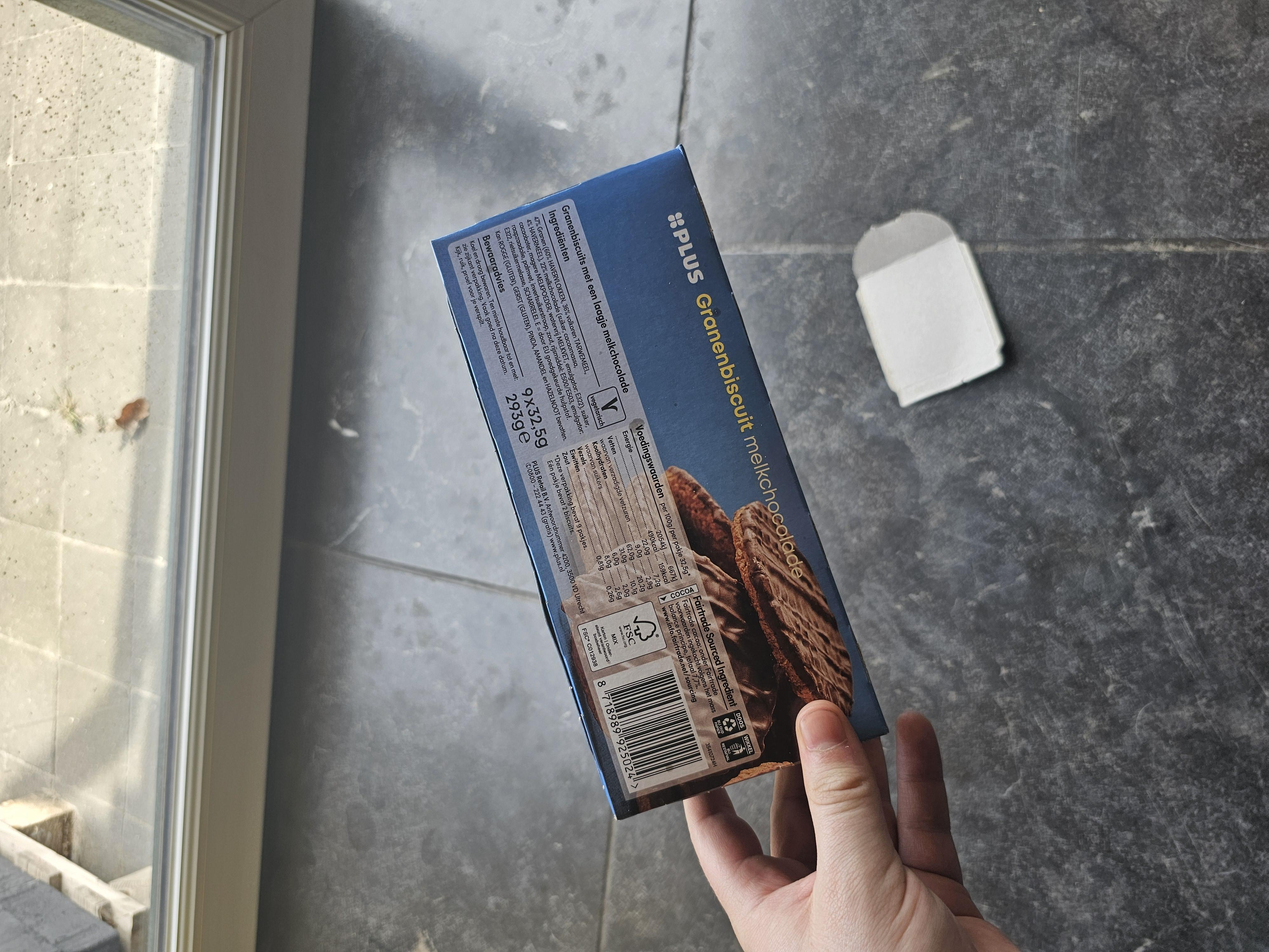Cardboard: (165, 321, 1061, 662), (722, 642, 988, 752)
